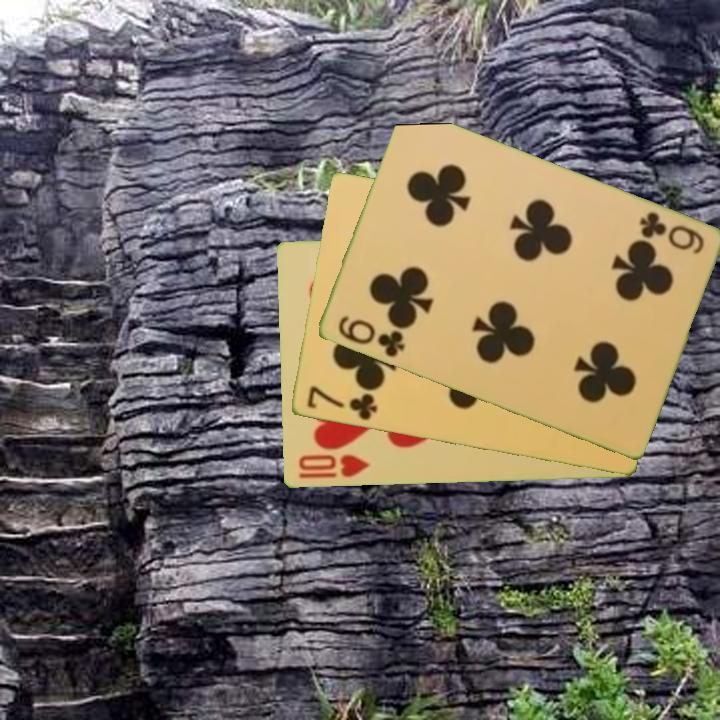10h: (295, 451, 373, 481)
6c: (333, 312, 408, 361), (635, 208, 707, 258)
7c: (303, 383, 380, 423)
